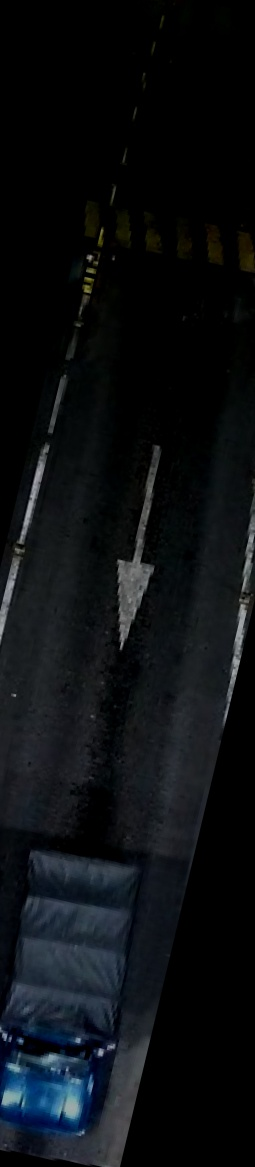truck: (0, 821, 181, 1159)
